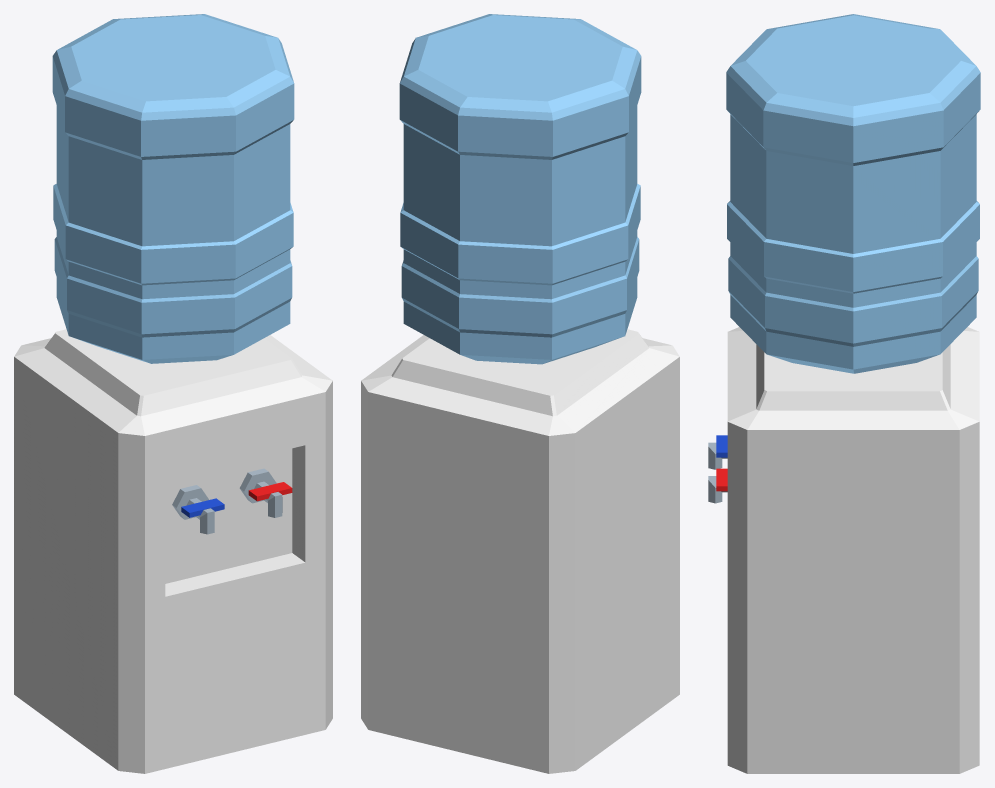
Rendered from water_cooler.fbx.
The picture shows the model from 3 angles, left to right: view 1: azimuth 30°, elevation 25°; view 2: azimuth 150°, elevation 25°; view 3: azimuth 270°, elevation 25°; orthographic projection.
Parts seen in each view (by area): view 1: Water Cooler, Wfter bottle; view 2: Water Cooler, Wfter bottle; view 3: Water Cooler, Wfter bottle.
Part boxes in pixels (<box>): Water Cooler: <box>14,329,332,773</box>; Wfter bottle: <box>52,14,294,363</box>; Water Cooler: <box>361,329,679,773</box>; Wfter bottle: <box>399,14,641,364</box>; Water Cooler: <box>708,327,979,773</box>; Wfter bottle: <box>726,14,980,373</box>.
Bounding box in the file's own units: 0.7648 × 2.19 × 0.8188.
1 material, 1 textured.
